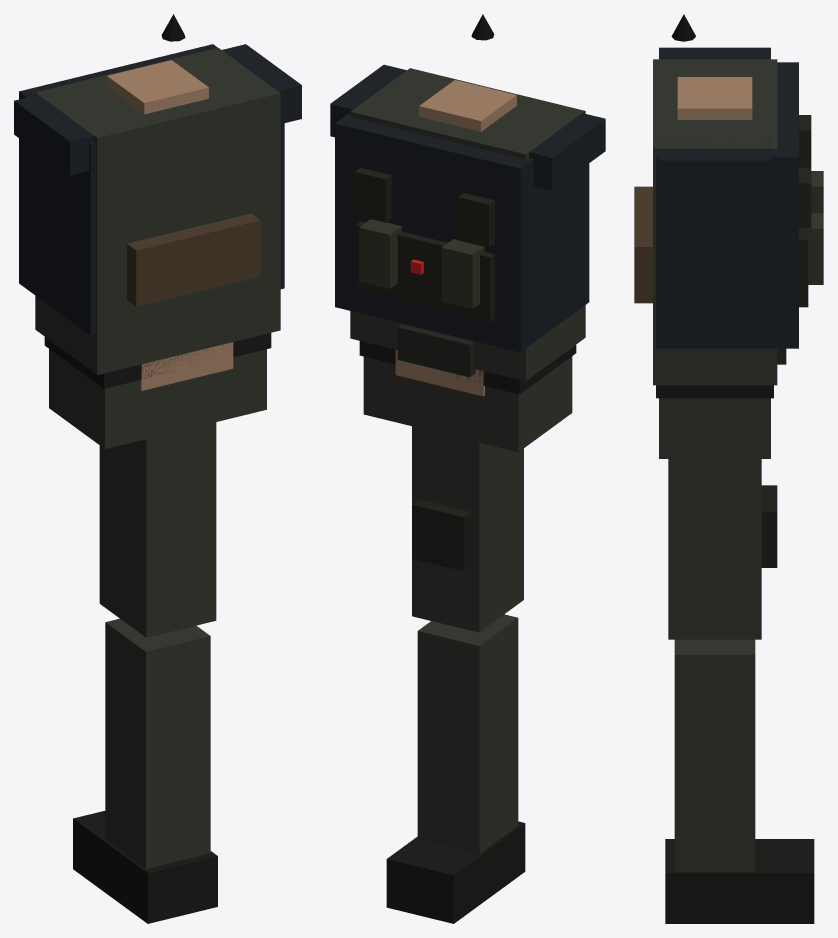
Rendered from operator_kapkan.glb.
3 views of the same model, side by side, from view 1: azimuth 30°, elevation 25°; view 2: azimuth 150°, elevation 25°; view 3: azimuth 270°, elevation 25° (orthographic). The views are drawn at different scales.
Parts seen in each view (by area): view 1: torso, legL, hips, head; view 2: torso, legL, hips, head; view 3: torso, legL, hips, head.
Part boxes in pixels (box(x1,y1,x2,y2)): torso: box(14, 14, 301, 374); legL: box(73, 422, 217, 923); hips: box(44, 333, 271, 448); head: box(127, 213, 260, 390); torso: box(330, 14, 605, 381); legL: box(386, 426, 525, 923); hips: box(359, 341, 576, 452); head: box(395, 324, 484, 396); torso: box(653, 14, 823, 385); legL: box(665, 459, 814, 923); hips: box(656, 385, 773, 458); head: box(634, 186, 786, 364).
Bounding box in the file's own units: 0.43 × 1.58 × 0.305.
